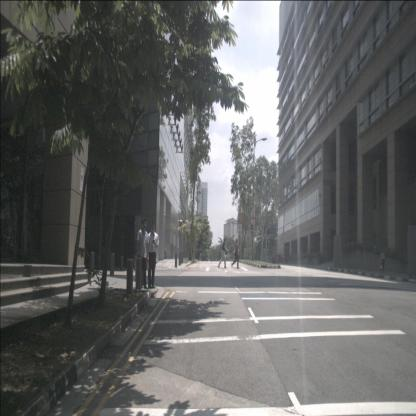human-pedestrian-adult: (136, 219, 150, 289), (147, 220, 159, 289), (218, 238, 230, 269), (231, 238, 241, 269), (380, 248, 386, 273)
vehicle-car: (272, 253, 286, 264)
